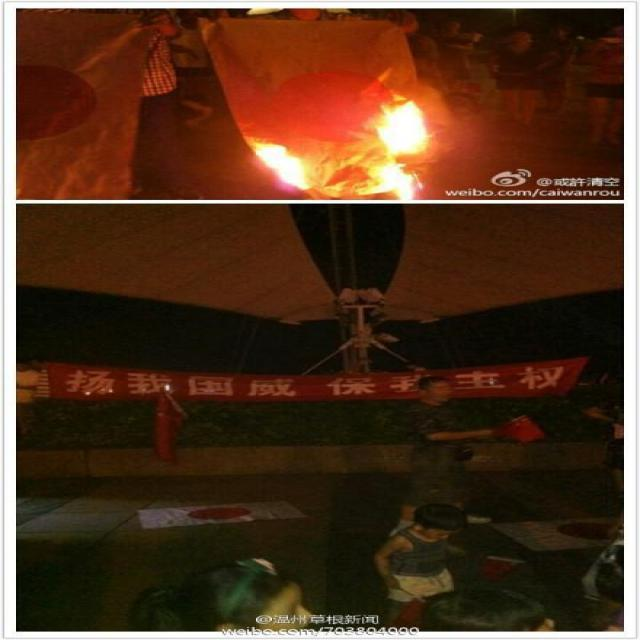Fire: (219, 92, 443, 200)
